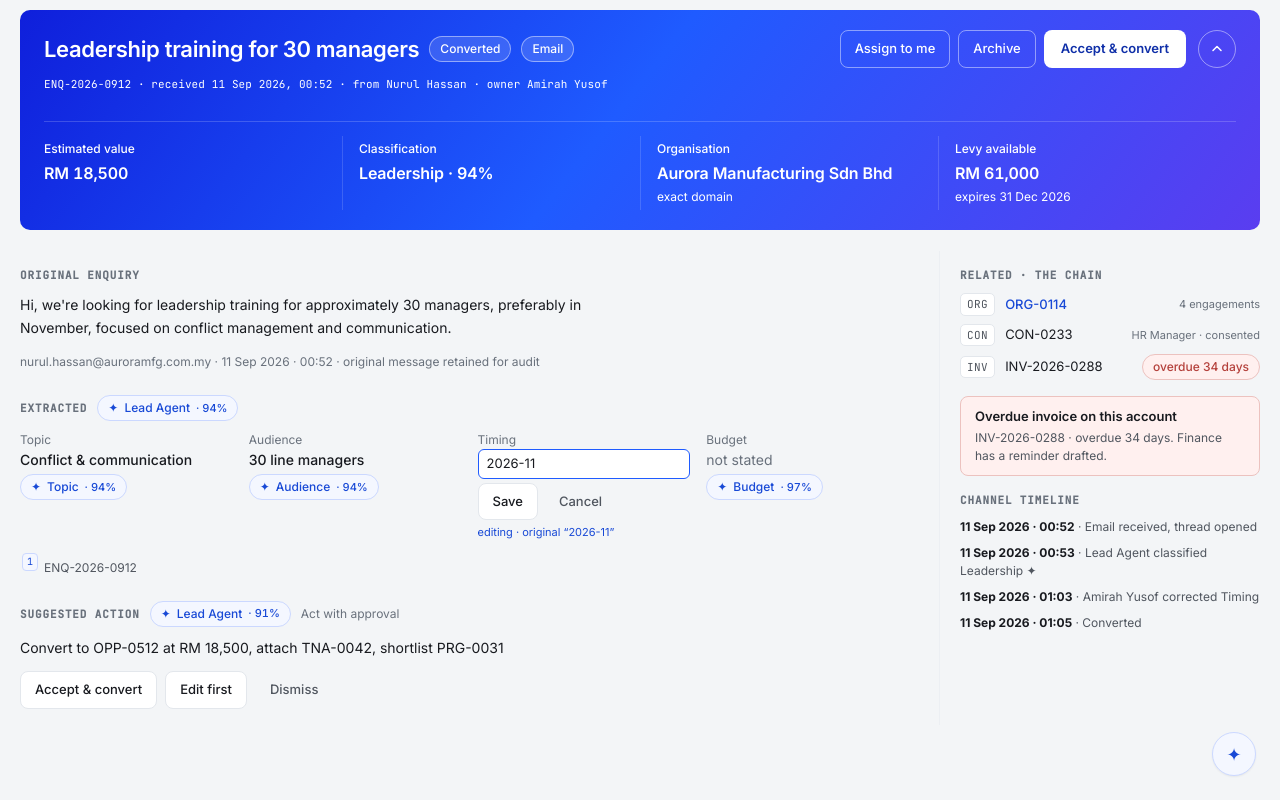
Test: M03-S02 · enquiry detail › converts through the action envelope and renders the outcome
The width and height of the screenshot is (1280, 800).
Check: the heading "Leadership training for 30 managers" is shown, box [44,32,419,66]
Click the button "Accept & convert" in the row of "Leadership training for 30 managers" at (1115, 49), box [1044,30,1186,68]
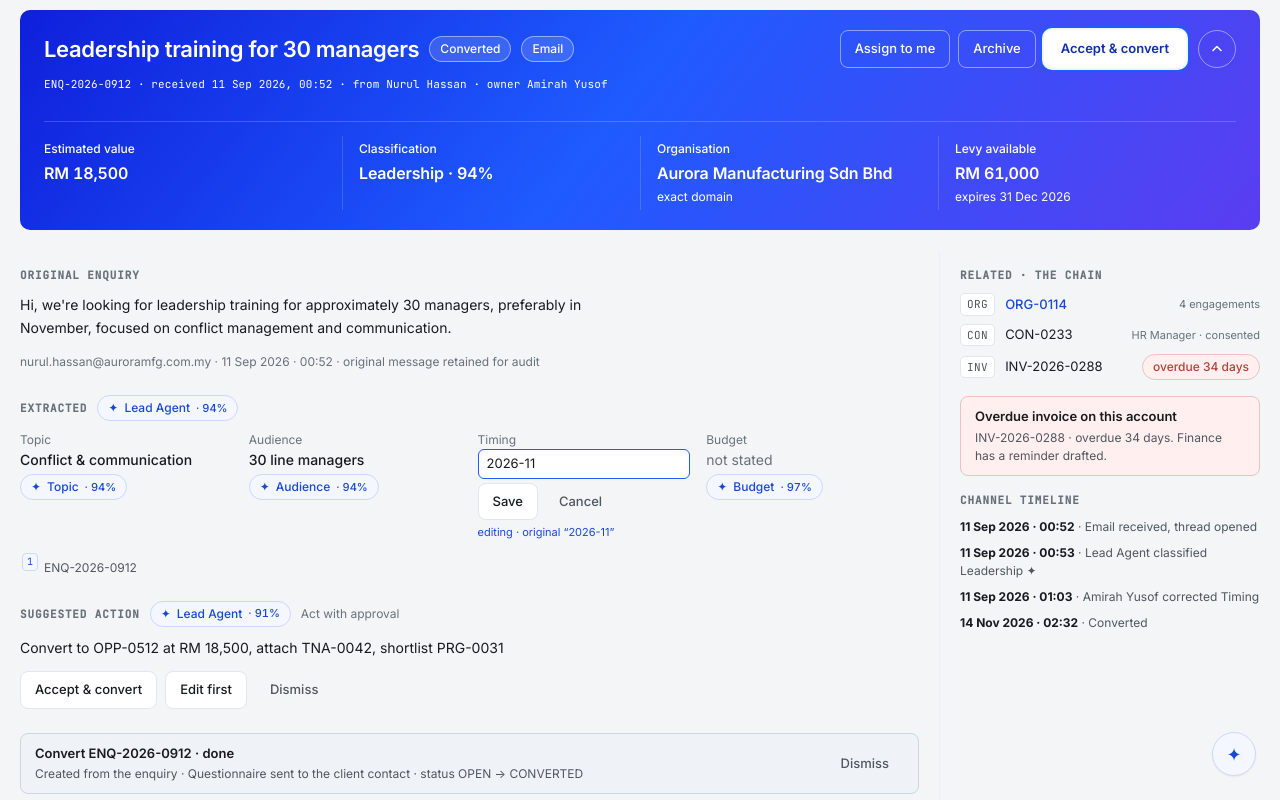
Check: the text "Convert ENQ-2026-0912 · done" is shown, box [35,745,234,761]
Check: the text "Questionnaire sent to the client contact" is shown, box [35,766,583,781]
